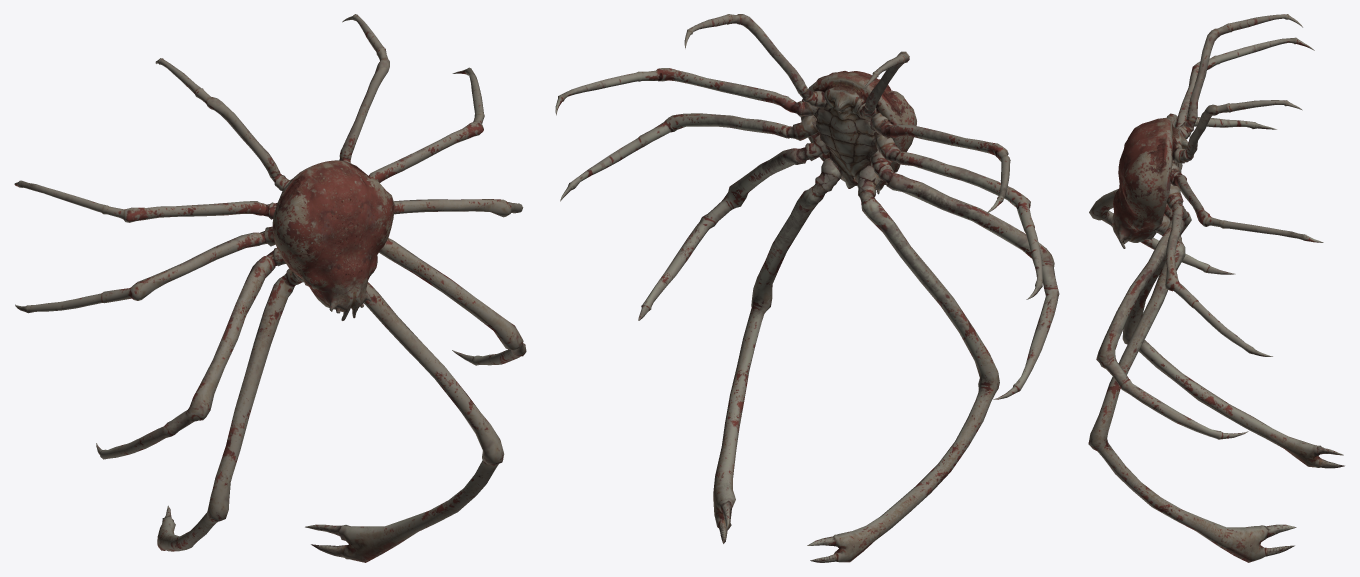
Rendered from SM_Japanise_Krab.obj.
3 views of the same model, side by side, from view 1: azimuth 30°, elevation 25°; view 2: azimuth 150°, elevation 25°; view 3: azimuth 270°, elevation 25° (orthographic). The views are drawn at different scales.
Visible parts, largest first — view 1: rdmobj00; view 2: rdmobj00; view 3: rdmobj00.
Boxes of the visible parts, left/top/right/bottom form: rdmobj00: left=14, top=14, right=526, bottom=562; rdmobj00: left=555, top=14, right=1059, bottom=562; rdmobj00: left=1088, top=14, right=1344, bottom=562.
Size of the model in its own units: 280 by 288 by 143.
Materials: 1 (1 with a texture image).
